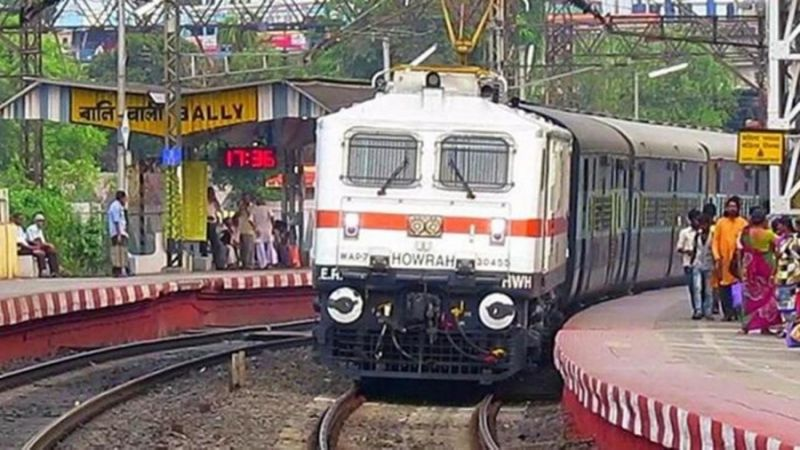train: (310, 68, 790, 388)
